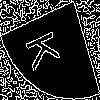K: (24, 25, 67, 74)
